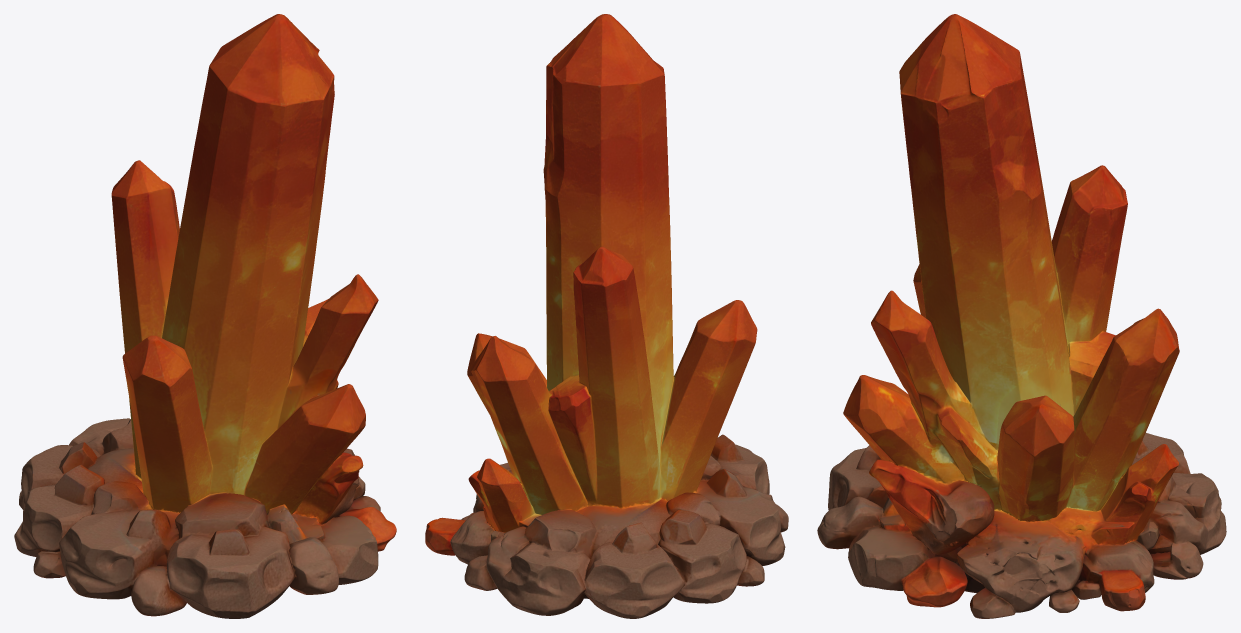
Rendered from venus_crystal.glb.
3 views of the same model, side by side, from view 1: azimuth 30°, elevation 25°; view 2: azimuth 150°, elevation 25°; view 3: azimuth 270°, elevation 25° (orthographic). The views are drawn at different scales.
Visible parts, largest first — view 1: tripo_node_0ccb1694-c0a6-433d-a4b1-3589e45fda02; view 2: tripo_node_0ccb1694-c0a6-433d-a4b1-3589e45fda02; view 3: tripo_node_0ccb1694-c0a6-433d-a4b1-3589e45fda02.
Part boxes in pixels (bbox=[...]): tripo_node_0ccb1694-c0a6-433d-a4b1-3589e45fda02: bbox=[14, 14, 396, 618]; tripo_node_0ccb1694-c0a6-433d-a4b1-3589e45fda02: bbox=[425, 14, 788, 618]; tripo_node_0ccb1694-c0a6-433d-a4b1-3589e45fda02: bbox=[817, 14, 1226, 618].
Size of the model in its own units: 0.6092 by 0.9786 by 0.6585.
Materials: 1 (1 with a texture image).
